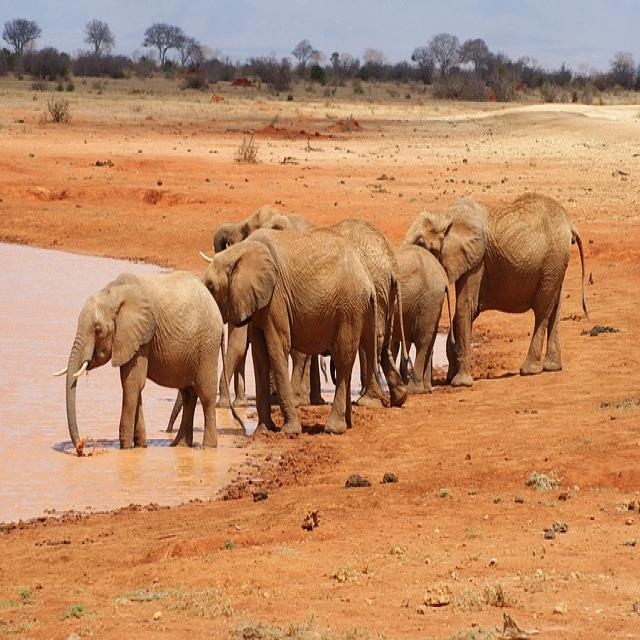FIL: (201, 231, 375, 443), (395, 203, 592, 379), (53, 268, 226, 452)
